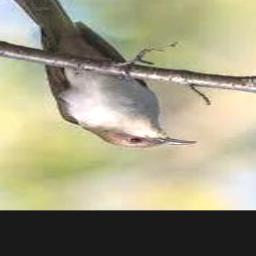Cuckoo: (0, 0, 196, 148)
